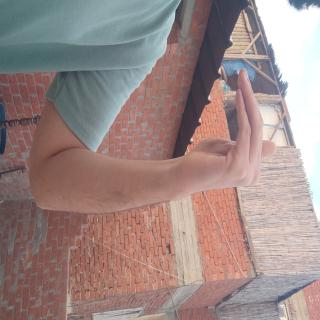KHAA: (48, 51, 156, 198)
